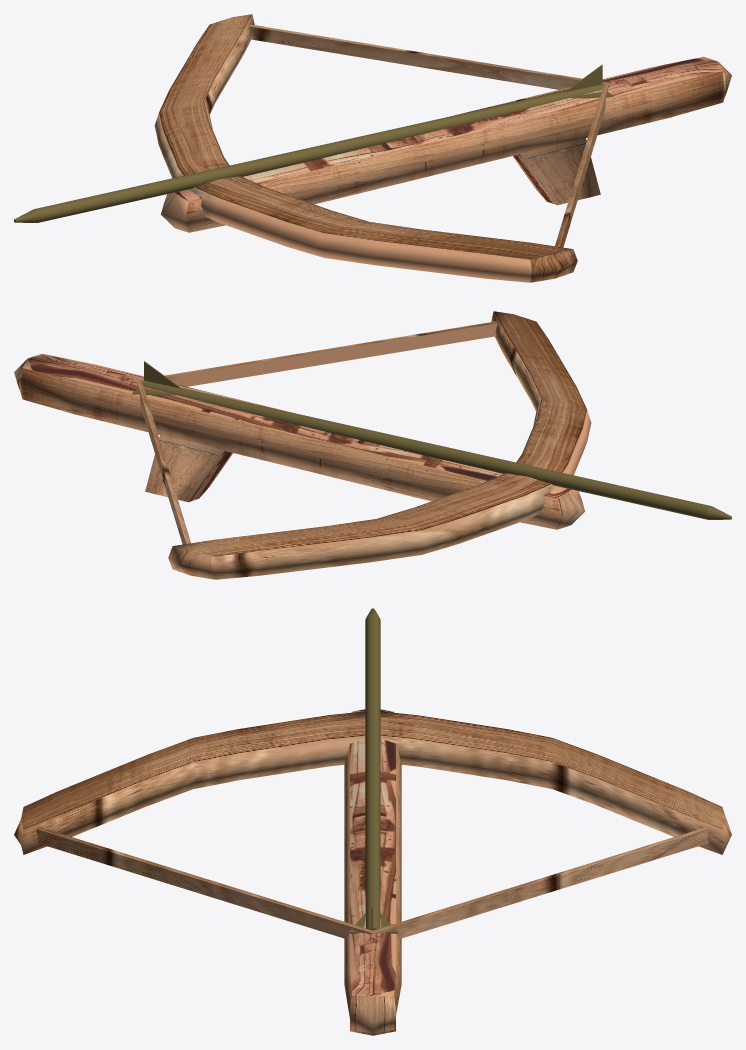
File: tourelle02.fbx
The picture shows the model from 3 angles, top to bottom: view 1: azimuth 30°, elevation 25°; view 2: azimuth 150°, elevation 25°; view 3: azimuth 270°, elevation 25°; orthographic projection. The views are drawn at different scales.
Parts seen in each view (by area): view 1: gun, fleche; view 2: gun, fleche; view 3: gun, fleche.
Part boxes in pixels (<box>): gun: <box>154,14,731,282</box>; fleche: <box>14,65,613,222</box>; gun: <box>14,311,591,579</box>; fleche: <box>132,361,731,519</box>; gun: <box>14,709,731,1035</box>; fleche: <box>348,608,398,933</box>.
Bounding box in the file's own units: 251 × 41.37 × 200.
